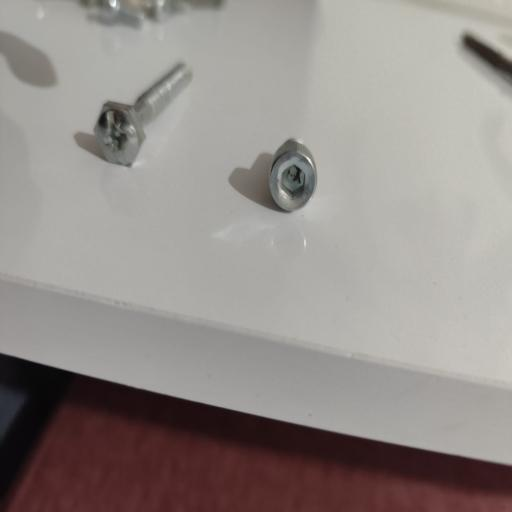Hex-Allen: (267, 140, 319, 215)
Pozidriv: (90, 96, 144, 168)
